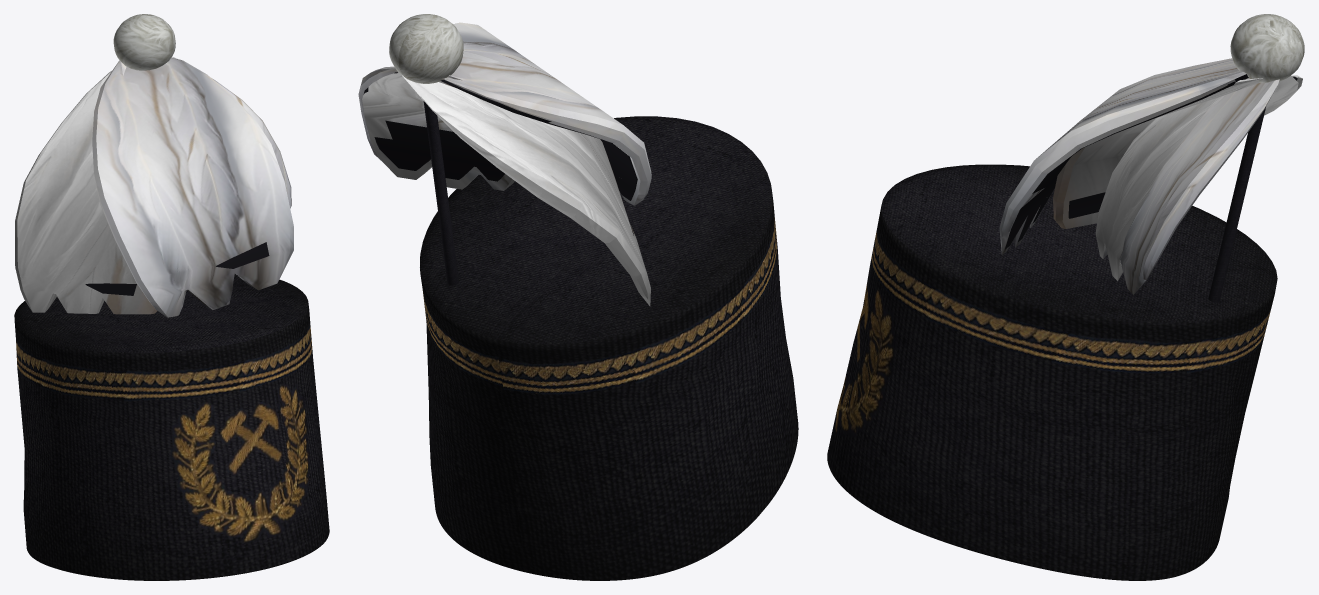
Rendered from SkarbekHatModel.fbx.
The picture shows the model from 3 angles, left to right: view 1: azimuth 30°, elevation 25°; view 2: azimuth 150°, elevation 25°; view 3: azimuth 270°, elevation 25°; orthographic projection. The views are drawn at different scales.
Parts seen in each view (by area): view 1: pCylinder2; view 2: pCylinder2; view 3: pCylinder2.
Boxes of the visible parts, box(x1,y1,x2,y2) form: pCylinder2: box(14, 14, 329, 580); pCylinder2: box(358, 14, 798, 580); pCylinder2: box(827, 14, 1304, 580).
Bounding box in the file's own units: 20.15 × 31.4 × 24.72.
